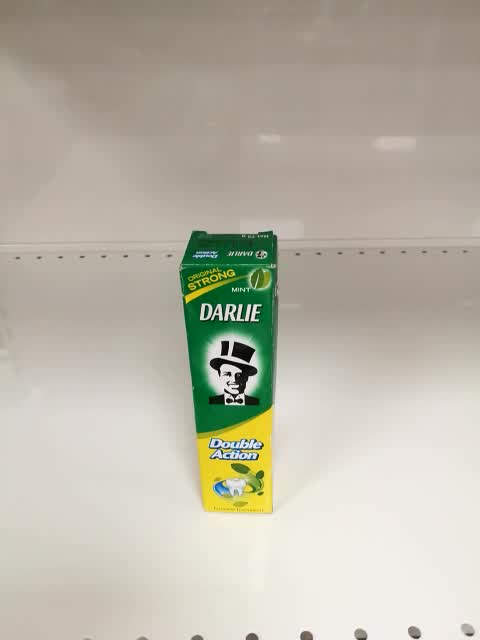toothpaste: (179, 231, 278, 513)
